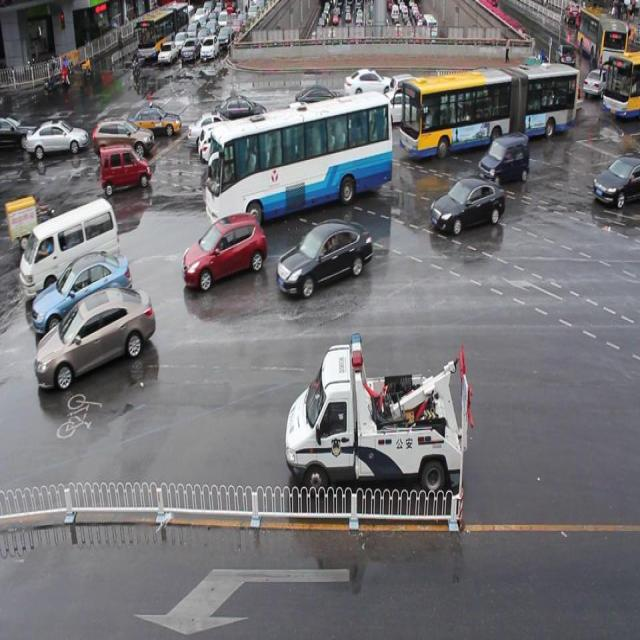bus: (286, 333, 474, 494)
car: (35, 290, 154, 387), (32, 252, 132, 334), (278, 221, 372, 295), (183, 213, 266, 290), (429, 179, 505, 231), (476, 132, 528, 184), (99, 142, 152, 193), (94, 117, 154, 159), (594, 154, 640, 208), (198, 122, 256, 164), (27, 119, 90, 155), (293, 102, 352, 140), (275, 100, 324, 143), (377, 90, 427, 125), (346, 66, 392, 103), (129, 105, 181, 137), (189, 110, 235, 146), (217, 95, 267, 127), (293, 86, 346, 115), (389, 74, 431, 109), (474, 66, 512, 101), (461, 79, 494, 115), (514, 66, 544, 98), (487, 75, 517, 106)
truck: (21, 203, 121, 294)
van: (207, 99, 390, 220), (398, 65, 575, 148)
